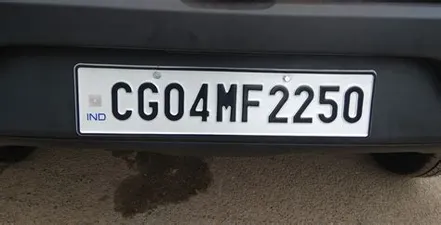number_plate: (63, 56, 411, 146)
